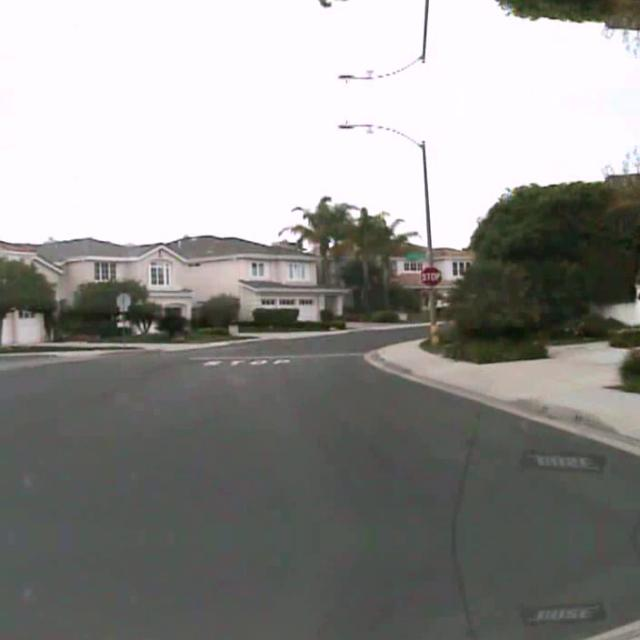stop: (419, 264, 441, 286)
